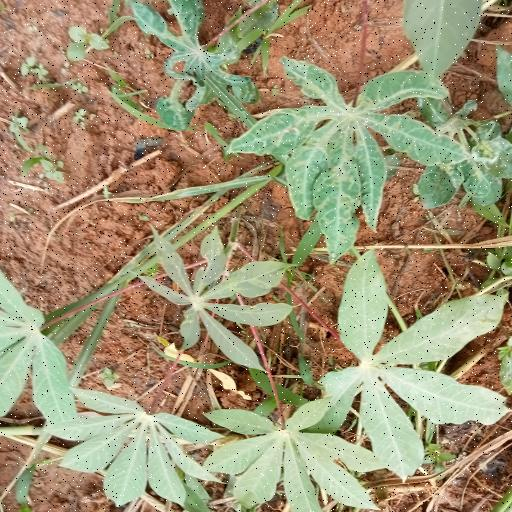Cassava_Mosaic: (237, 58, 460, 256), (320, 261, 508, 464), (143, 231, 293, 362), (206, 401, 381, 511), (74, 386, 218, 506), (133, 0, 270, 113)
